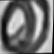correct: (0, 0, 51, 54)
